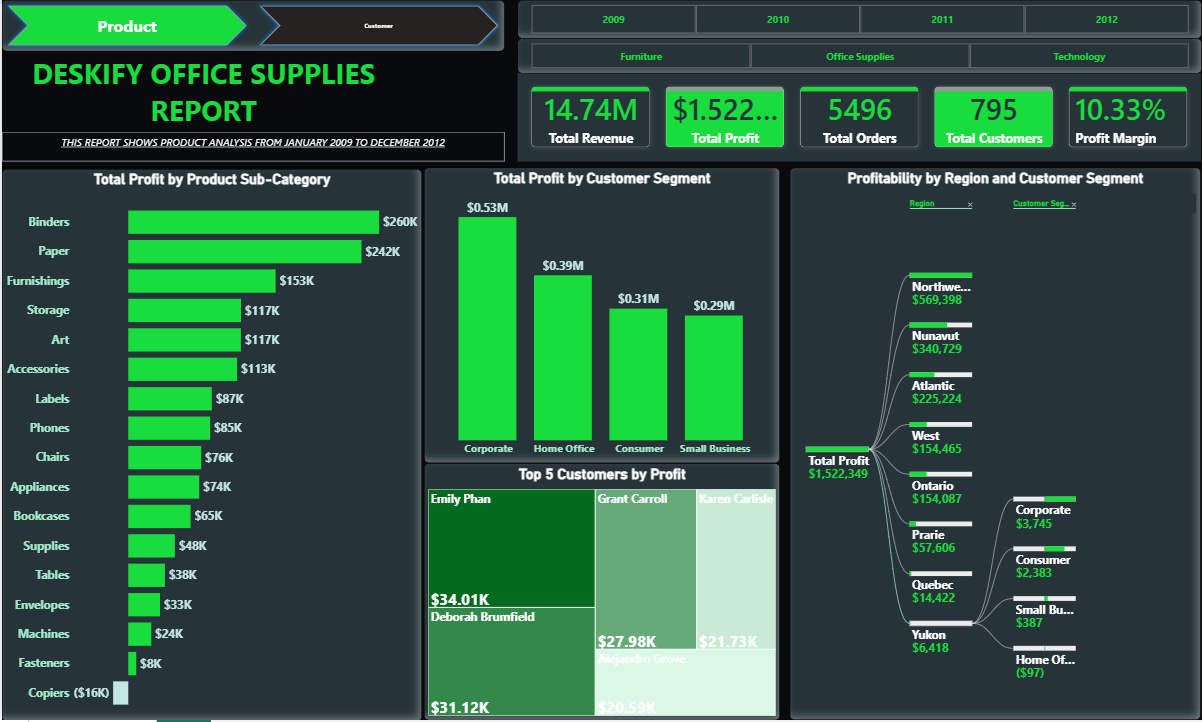

This screenshot's page, from the dashboard's own definition file:
{"tool":"powerbi","page":{"name":"Customer","canvas":[2500,1500],"ordinal":1},"visuals":[{"type":"cardVisual","fields":{"Data":["Calculated Measures.Total Revenue","Calculated Measures.Total Profit","Calculated Measures.Total Orders","Calculated Measures.Total Customers","Calculated Measures.Profit Margin"]},"box":[1074.2,152.3,1424.3,184.4],"z":0},{"type":"slicer","fields":{"Values":["CalendarDim.Year"]},"box":[1073.9,0,1425.5,80.3],"z":1000},{"type":"slicer","fields":{"Values":["ProductDim.Product Category"]},"box":[1073.9,80.3,1425.5,72.6],"z":2000},{"type":"pageNavigator","box":[0,0,1047.1,107],"z":3000},{"type":"textbox","box":[0,107,840.8,168.2],"z":4000},{"type":"textbox","box":[0,275.2,1047.1,61.1],"z":5000},{"type":"clusteredColumnChart","fields":{"Y":["Calculated Measures.Total Profit"],"Category":["CustomerDim.Customer Segment"]},"box":[879.6,349.5,741.4,615.3],"z":6000},{"type":"decompositionTreeVisual","title":"Profitability by Region and Customer Segment","fields":{"Analyze":["Calculated Measures.Total Profit"],"ExplainBy":["LocationDim.Region","CustomerDim.Customer Segment"]},"box":[1642.5,350.3,856.1,1150.3],"z":7000},{"type":"clusteredBarChart","fields":{"Y":["Calculated Measures.Total Profit"],"Category":["ProductDim.Product Sub-Category"]},"box":[0,351.6,875.2,1150.3],"z":8000},{"type":"treemap","title":"Top 5 Customers by Profit","fields":{"Values":["Calculated Measures.Total Profit"],"Group":["CustomerDim.Customer Name"]},"box":[879.6,965.6,741.4,535],"z":9000}]}

Visuals, with their boxes in screenshot pixels (x1, y1, x2, y2), scaled from the page's 2500x1500 canvas onto the 1202x722 screenshot:
cardVisual - Calculated Measures.Total Revenue x Calculated Measures.Total Profit: crop(516, 73, 1201, 162)
slicer - CalendarDim.Year: crop(516, 0, 1201, 39)
slicer - ProductDim.Product Category: crop(516, 39, 1201, 74)
pageNavigator: crop(0, 0, 503, 52)
textbox: crop(0, 52, 404, 132)
textbox: crop(0, 132, 503, 162)
clusteredColumnChart - Calculated Measures.Total Profit x CustomerDim.Customer Segment: crop(423, 168, 779, 464)
"Profitability by Region and Customer Segment" decompositionTreeVisual: crop(790, 169, 1201, 721)
clusteredBarChart - Calculated Measures.Total Profit x ProductDim.Product Sub-Category: crop(0, 169, 421, 721)
"Top 5 Customers by Profit" treemap: crop(423, 465, 779, 721)
